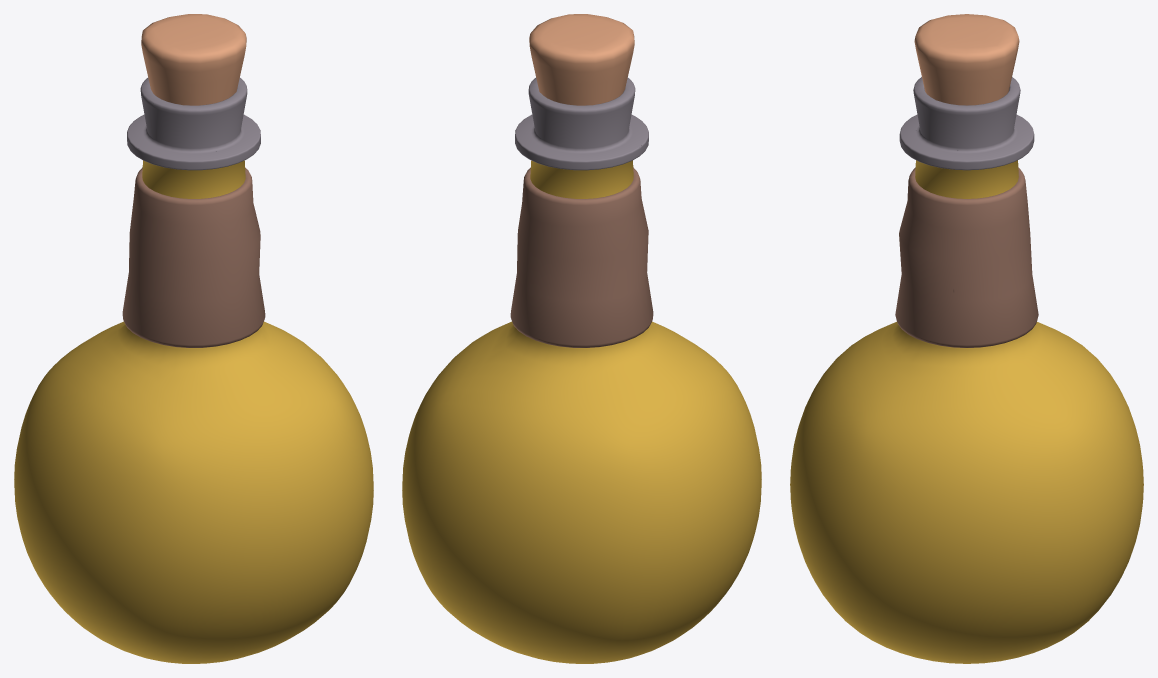
The model's file is Potion.fbx.
The picture shows the model from 3 angles, left to right: view 1: azimuth 30°, elevation 25°; view 2: azimuth 150°, elevation 25°; view 3: azimuth 270°, elevation 25°; orthographic projection.
Parts seen in each view (by area): view 1: Potion_red; view 2: Potion_red; view 3: Potion_red.
Part boxes in pixels (x1,y1,x2,y2): Potion_red: (14,14,373,663); Potion_red: (402,14,761,663); Potion_red: (790,14,1143,663).
Bounding box in the file's own units: 40.36 × 77.13 × 40.36.
